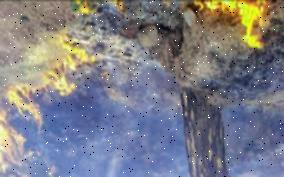fire: (192, 0, 280, 52), (46, 37, 92, 101), (0, 124, 28, 177), (8, 86, 40, 124)
